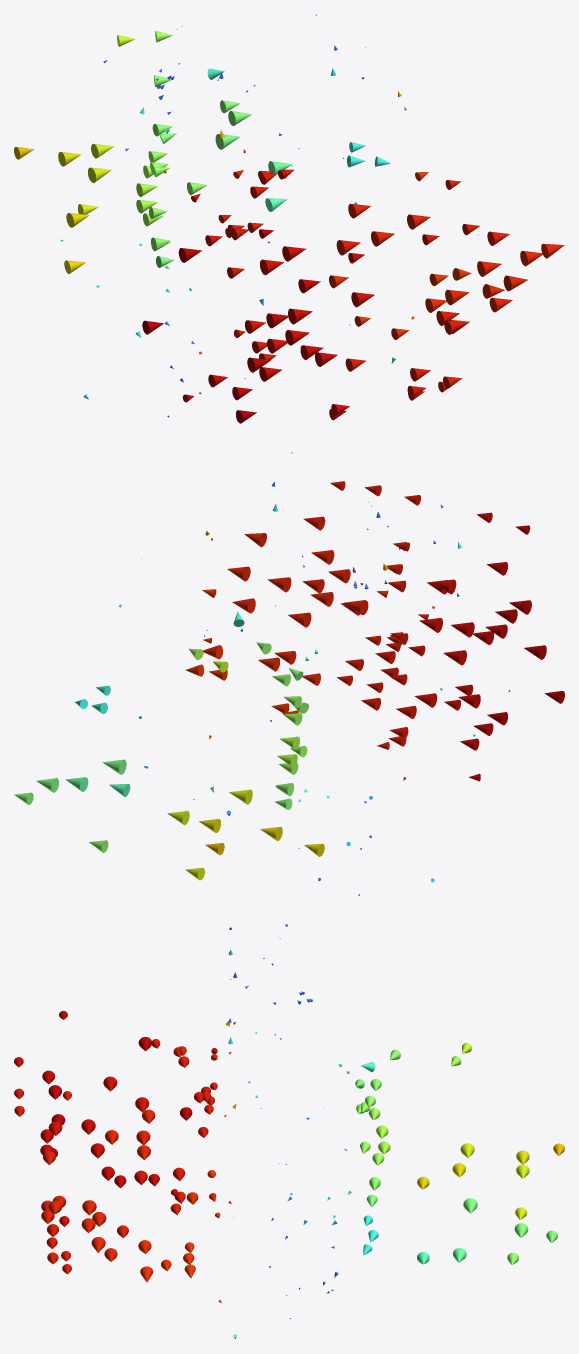
Rendered from LineasCorrienteH2-O2_mh2-1.38_V-1.glb.
3 views of the same model, one above another, from view 1: azimuth 30°, elevation 25°; view 2: azimuth 150°, elevation 25°; view 3: azimuth 270°, elevation 25° (orthographic). The views are drawn at different scales.
Bounding box in the file's own units: 0.000892 × 0.000881 × 0.00123.
Materials: 2 (2 with a texture image).
